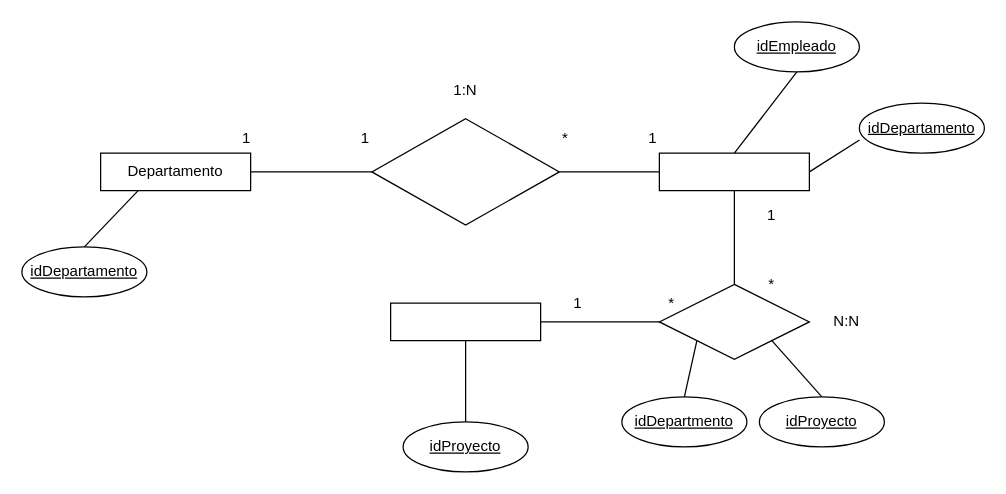
Image size: 1006x494. Some labels were removed from this diagram. Each missing label, with the box of its shape:
Empleado: (658, 152, 809, 191)
Pertenece: (371, 118, 559, 225)
Proyecto: (389, 302, 541, 341)
Realizar: (658, 283, 809, 359)
